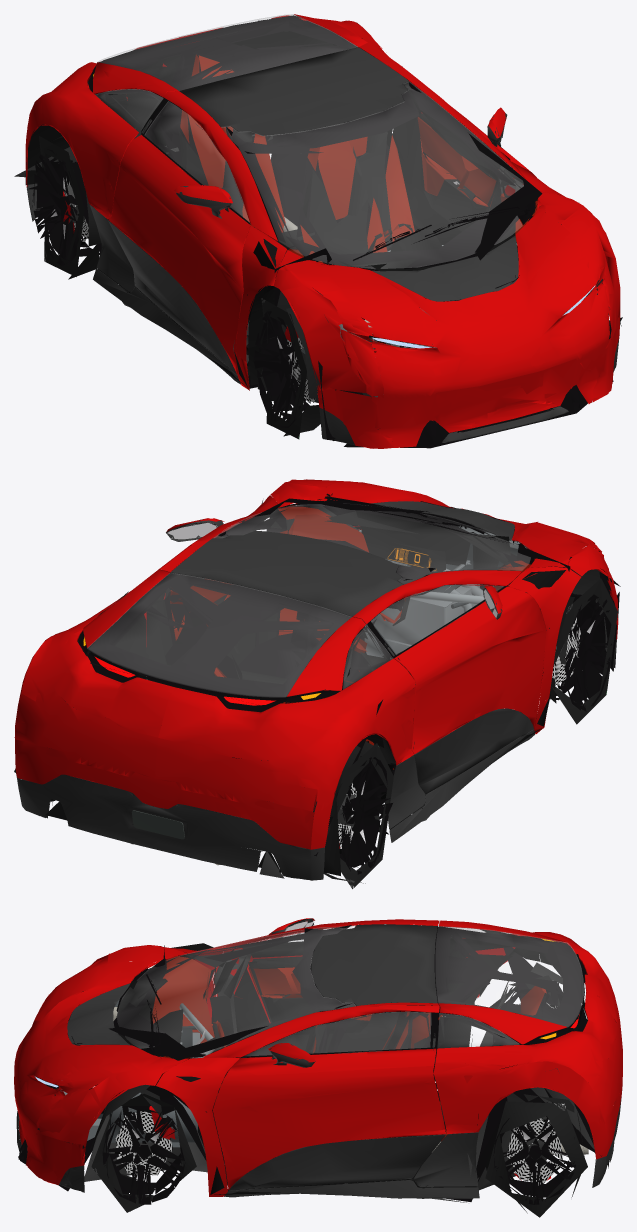
File: hatch-parked.glb
3 views of the same model, one above another, from view 1: azimuth 30°, elevation 25°; view 2: azimuth 150°, elevation 25°; view 3: azimuth 270°, elevation 25° (orthographic). The views are drawn at different scales.
Parts seen in each view (by area): view 1: glass_BodyWindshield, panel_hood.001, panel_BodyDoorRColor1, panel_bumper_front, panel_BodyRoofPanel, glass_BodyRearwindow, panel_rear_quarter_L, BodyWindshieldGasket, panel_front_fender_L, InteriorSeatsColor1, panel_BodyPillars, InteriorSeatsColor2 (+28 smaller); view 2: panel_rear_quarter_L, glass_BodyRearwindow, panel_rear_quarter_R, panel_BodyPanelsColor2, panel_BodyDoorRColor1, panel_BodyRoofPanel, glass_BodyWindshield, panel_bumper_rear.001, InteriorRearHatch, panel_BodyPillars, InteriorPillar, InteriorDashMid (+29 smaller); view 3: panel_BodyDoorLColor1, glass_BodyWindshield, panel_rear_quarter_R, glass_BodyRearwindow, panel_BodyRoofPanel, panel_hood.001, panel_BodyPillars, panel_BodyDoorLColor2, panel_BodyPanelsColor2, panel_front_fender_R, InteriorDoorR01, BodyWindshieldGasket (+33 smaller).
Part boxes in pixels (left/top/right/bottom): glass_BodyWindshield: left=221, top=81, right=523, bottom=268; panel_hood.001: left=316, top=206, right=608, bottom=397; panel_BodyDoorRColor1: left=108, top=135, right=250, bottom=374; panel_bumper_front: left=317, top=313, right=620, bottom=448; panel_BodyRoofPanel: left=179, top=47, right=408, bottom=136; glass_BodyRearwindow: left=98, top=14, right=357, bottom=90; panel_rear_quarter_L: left=25, top=37, right=182, bottom=209; BodyWindshieldGasket: left=226, top=82, right=542, bottom=270; panel_front_fender_L: left=273, top=250, right=383, bottom=397; InteriorSeatsColor1: left=180, top=54, right=414, bottom=252; panel_BodyPillars: left=164, top=43, right=565, bottom=390; InteriorSeatsColor2: left=178, top=120, right=392, bottom=254; panel_rear_quarter_L: left=155, top=617, right=415, bottom=811; glass_BodyRearwindow: left=87, top=573, right=351, bottom=697; panel_rear_quarter_R: left=15, top=569, right=175, bottom=778; panel_BodyPanelsColor2: left=16, top=639, right=616, bottom=880; panel_BodyDoorRColor1: left=394, top=586, right=546, bottom=754; panel_BodyRoofPanel: left=171, top=530, right=402, bottom=616; glass_BodyWindshield: left=214, top=504, right=530, bottom=584; panel_bumper_rear.001: left=14, top=737, right=413, bottom=849; InteriorRearHatch: left=88, top=574, right=364, bottom=701; panel_BodyPillars: left=158, top=495, right=581, bottom=733; InteriorPillar: left=166, top=570, right=399, bottom=694; InteriorDashMid: left=325, top=511, right=510, bottom=602; panel_BodyDoorLColor1: left=212, top=1048, right=445, bottom=1189; glass_BodyWindshield: left=117, top=925, right=355, bottom=1054; panel_rear_quarter_R: left=433, top=991, right=622, bottom=1126; glass_BodyRearwindow: left=435, top=926, right=583, bottom=1027; panel_BodyRoofPanel: left=311, top=924, right=437, bottom=1005; panel_hood.001: left=14, top=959, right=161, bottom=1130; panel_BodyPillars: left=156, top=919, right=439, bottom=1196; panel_BodyDoorLColor2: left=229, top=1134, right=445, bottom=1190; panel_BodyPanelsColor2: left=16, top=998, right=622, bottom=1198; panel_front_fender_R: left=36, top=1056, right=188, bottom=1148; InteriorDoorR01: left=213, top=941, right=423, bottom=1056; BodyWindshieldGasket: left=109, top=925, right=351, bottom=1060.
Size of the model in its own units: 2.12 by 1.32 by 3.83.
28 materials, 5 textured.
